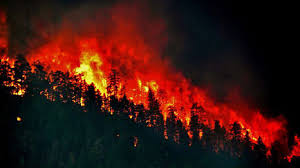fire: (22, 28, 221, 112), (133, 81, 300, 158)
